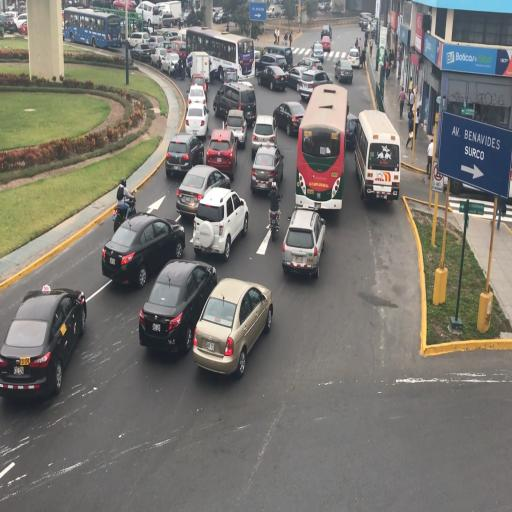auto: (0, 284, 84, 398), (195, 275, 273, 374), (138, 259, 218, 355), (102, 212, 184, 288), (191, 186, 249, 260), (176, 162, 231, 220), (282, 206, 326, 278), (212, 79, 254, 125), (250, 141, 283, 196), (165, 133, 204, 178), (205, 128, 238, 178), (251, 114, 278, 158), (274, 100, 305, 137), (298, 68, 332, 100), (224, 108, 248, 146), (184, 100, 208, 138), (256, 64, 286, 91), (188, 72, 209, 104), (259, 51, 289, 73), (131, 41, 155, 63), (169, 40, 188, 67), (332, 60, 353, 84), (161, 51, 182, 75), (151, 46, 170, 70), (0, 11, 19, 33), (128, 31, 152, 48), (296, 57, 320, 74), (346, 44, 361, 68), (144, 34, 164, 51), (14, 12, 28, 35), (320, 29, 332, 52), (312, 41, 325, 62), (213, 7, 224, 21), (360, 17, 370, 31), (321, 23, 331, 36)
bus: (296, 82, 348, 212), (354, 108, 400, 206), (183, 25, 246, 82), (65, 7, 122, 50), (134, 0, 164, 29), (154, 0, 184, 27), (266, 4, 284, 18)
camion: (188, 50, 211, 87)
moto: (114, 177, 134, 225), (267, 194, 283, 240)
